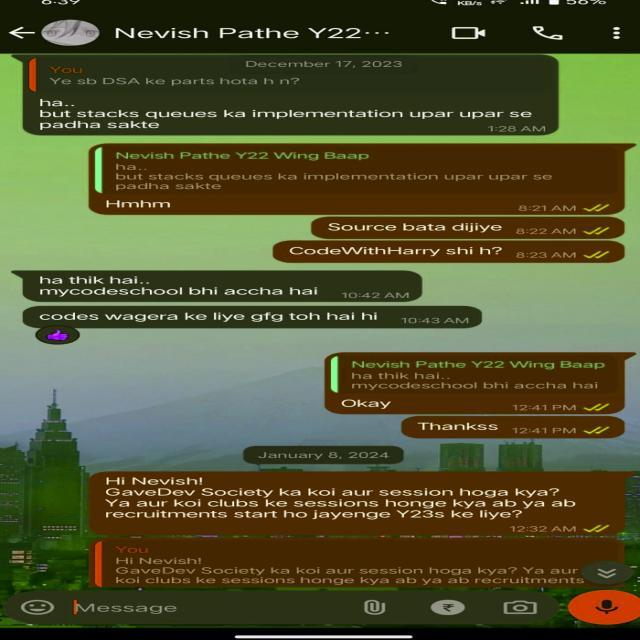scam: (26, 92, 556, 136), (26, 270, 337, 298), (29, 306, 390, 329)
